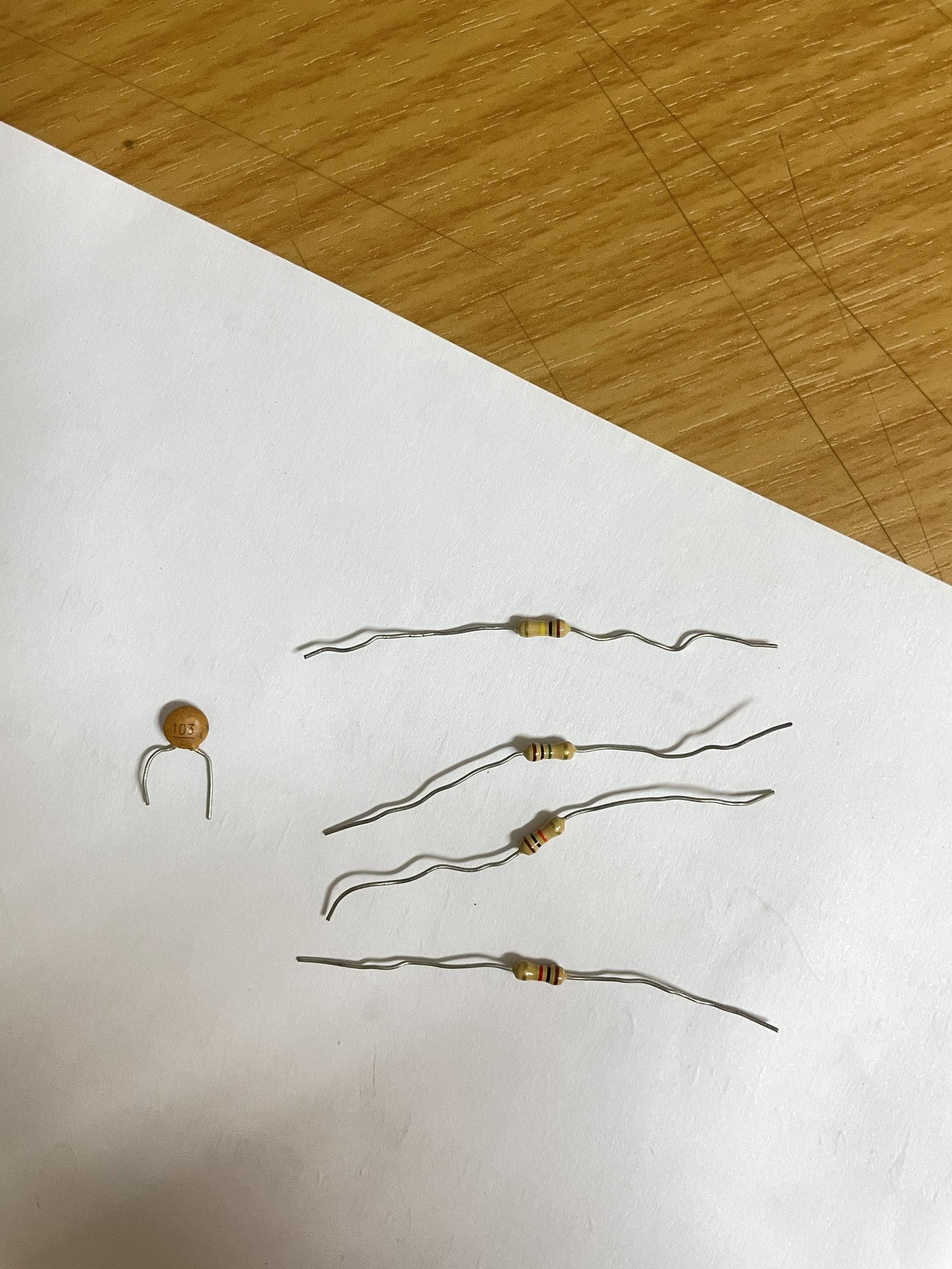resistor: (520, 814, 564, 855), (513, 959, 567, 986), (514, 617, 570, 638), (524, 741, 575, 760)
